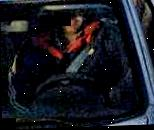seatbelt: (70, 32, 98, 70)
